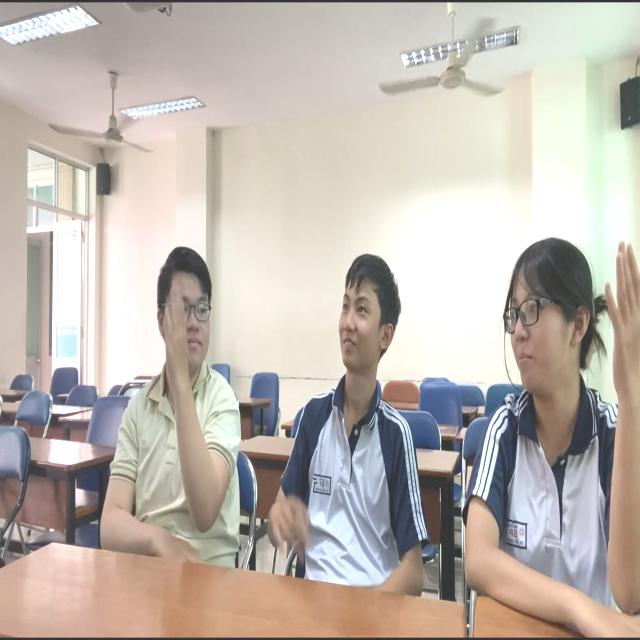raise_hand: (497, 202, 640, 606), (140, 211, 246, 567)
